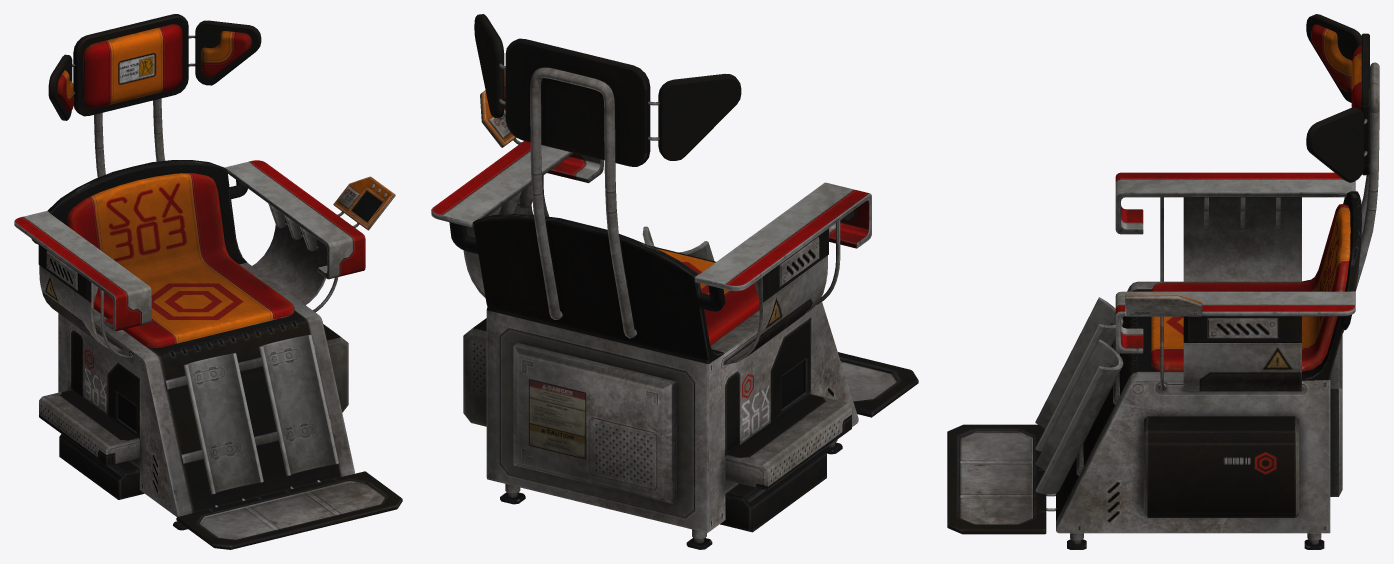
Rendered from chair_scan.dae.
3 renders of one model, left to right at view 1: azimuth 30°, elevation 25°; view 2: azimuth 150°, elevation 25°; view 3: azimuth 270°, elevation 25°, orthographic. The views are drawn at different scales.
Visible parts, largest first — view 1: polySurface266; view 2: polySurface266; view 3: polySurface266.
Boxes of the visible parts, x1,y1,x2,y2 form: polySurface266: (14,14,402,549); polySurface266: (431,14,918,549); polySurface266: (947,14,1379,549).
Bounding box in the file's own units: 1.23 × 1.61 × 1.42.
